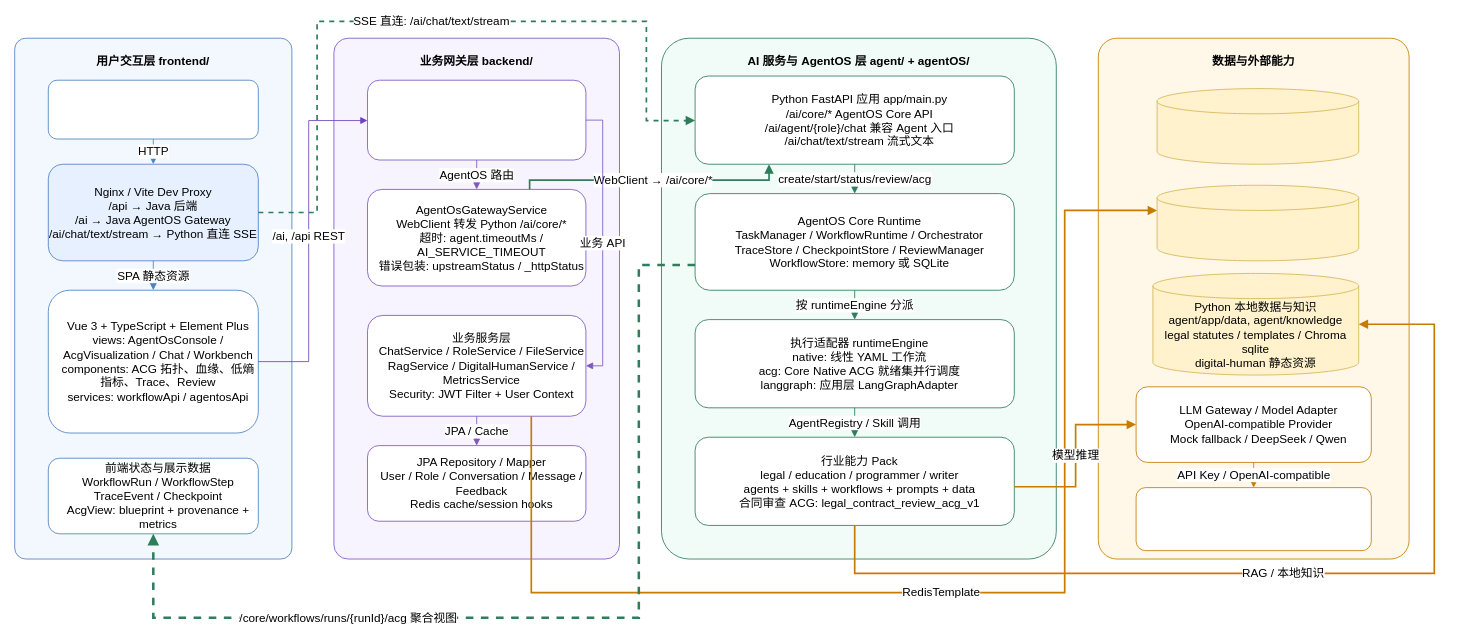
The diagram is 1457 pixels wide and 640 high, and some of its shapes have lost their labels. Here are the shapes that lost their labels. From the top down, the centre of each, then its label:
At point 152,109: "用户 / 审核者 浏览器访问前端".
At point 476,119: "Controller 层 AgentOsGatewayController Chat/Auth/Role/File/Voice/... Controller".
At point 1257,126: "PostgreSQL 15 users / roles / conversations / messages / feedback".
At point 1257,222: "Redis 7 缓存 / 会话 / 限流辅助".
At point 1253,519: "外部模型服务 DeepSeek: 文本生成 / 意图解析 通义千问: 多模态 / 语音 / 备用".
